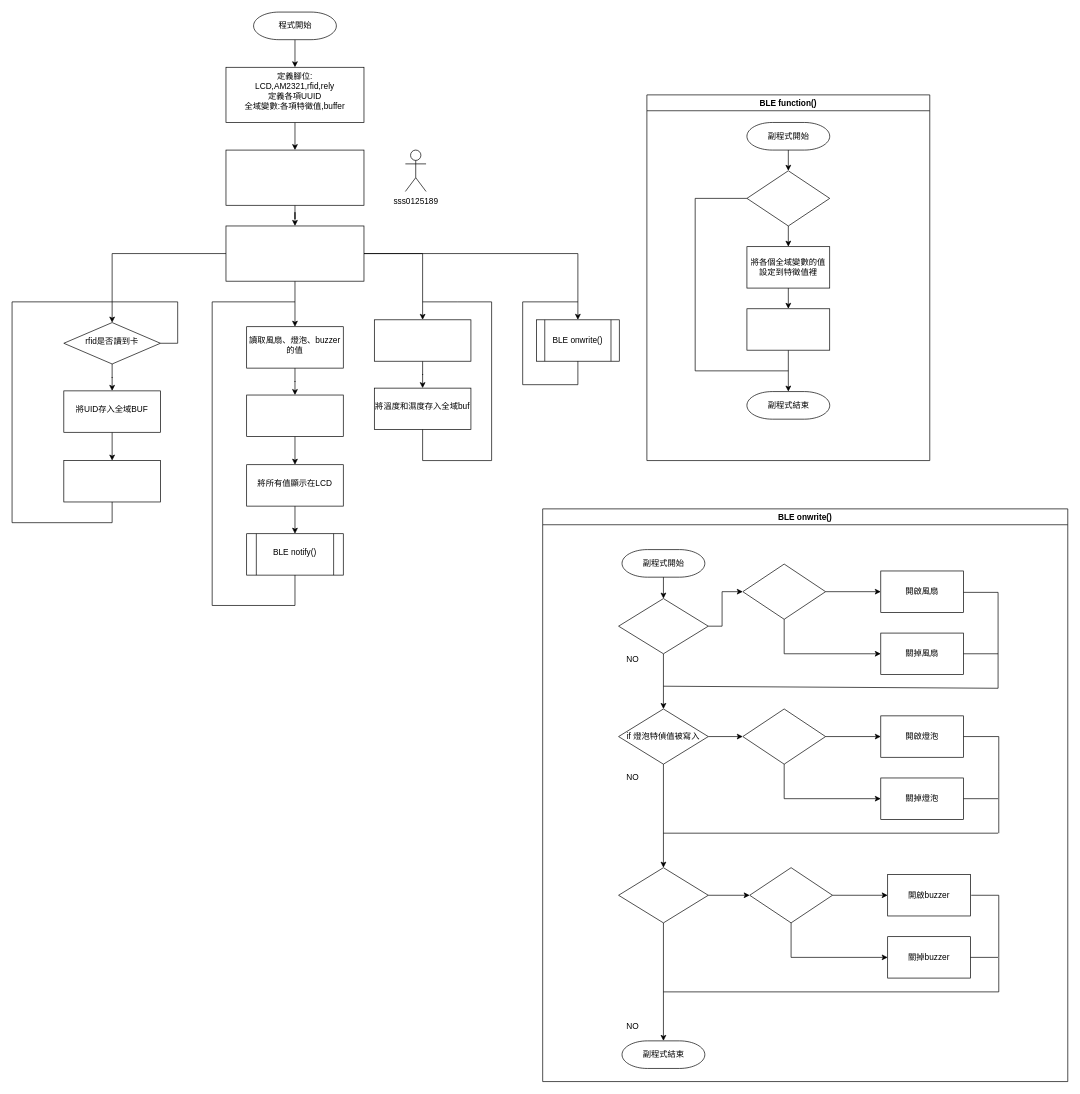
Some shapes in this 1080 by 1094 pixel diagram are drawn without their labels. Each missing label, with the centre of its shape:
am2321獲取溫度和濕度: the point at 422,340
BLE start 開啟連線: the point at 294,253
if buzzer特偵值=1: the point at 790,895
if buzzer特偵值被寫入: the point at 663,895
if connected: the point at 788,198
if 燈泡特偵值=1: the point at 784,736
if 風扇特偵值=1: the point at 784,591
if 風扇特偵值被寫入: the point at 663,626
初始化: 腳位、串口參數、BLE、 am2321、LCD: the point at 294,177
將UID顯示到LCD: the point at 111,481
將各特徵值notify到client: the point at 788,329
透過I2C向Sensor取得 光感、CO、聲音峰值、窗、PIR的值: the point at 294,415
